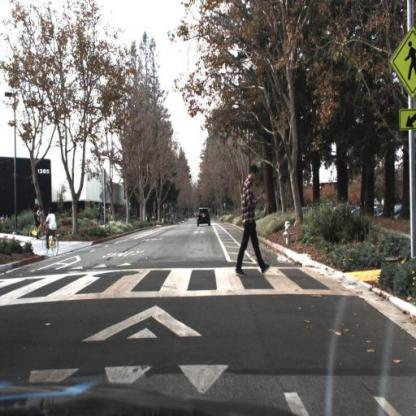biker: (41, 207, 61, 259), (30, 204, 48, 242)
car: (195, 204, 213, 230)
pedestrian: (234, 163, 276, 281)
